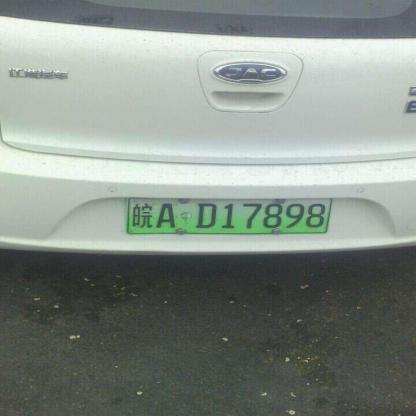lp: (128, 197, 330, 233)
